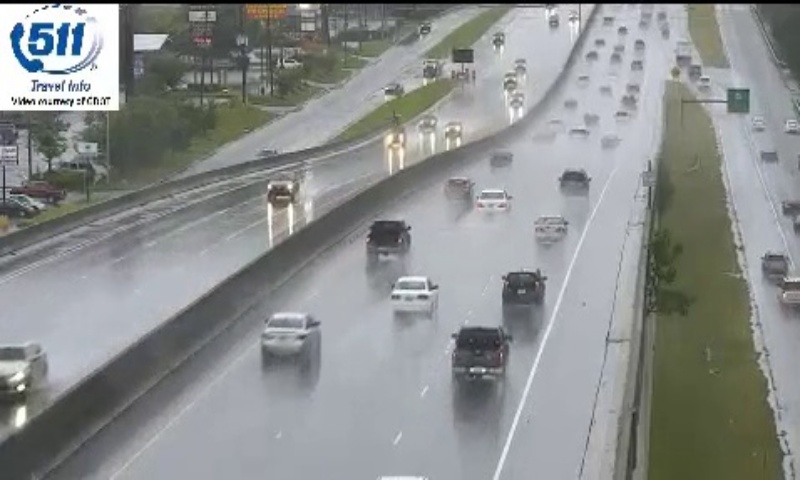car: (451, 325, 507, 382), (262, 312, 319, 356), (389, 276, 436, 314), (502, 270, 543, 308), (366, 219, 411, 253), (532, 215, 567, 243)
